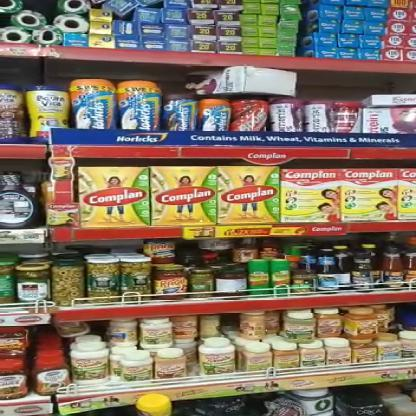Complan Pista Badam: (80, 167, 150, 226), (151, 167, 221, 225), (219, 167, 280, 225), (340, 168, 398, 222), (285, 170, 343, 222)
